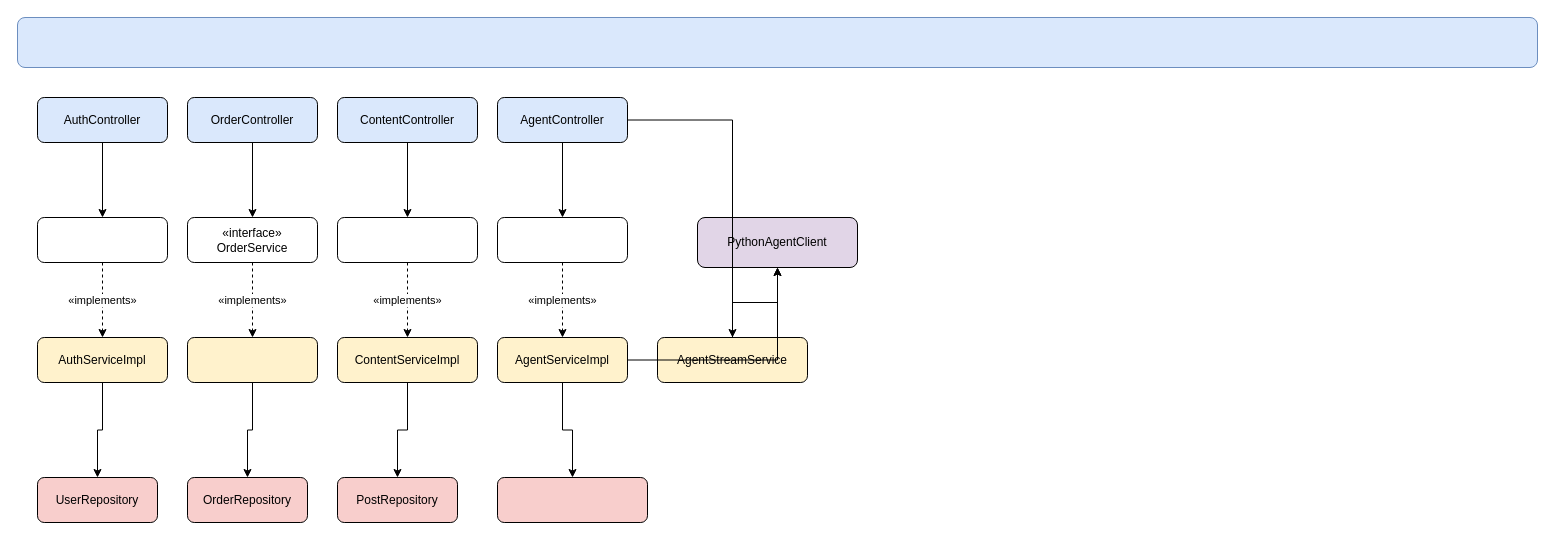
Some shapes in this 1555 by 540 pixel diagram are drawn without their labels. Each missing label, with the centre of its shape:
"AiConversationRepo" belongs at [572,499].
"OrderServiceImpl" belongs at [252,359].
"«interface» AgentService" belongs at [562,239].
"«interface» AuthService" belongs at [102,239].
"«interface» ContentService" belongs at [407,239].
"校园约伴平台 — 后端分层类图 (Layered Architecture)" belongs at [777,42].
